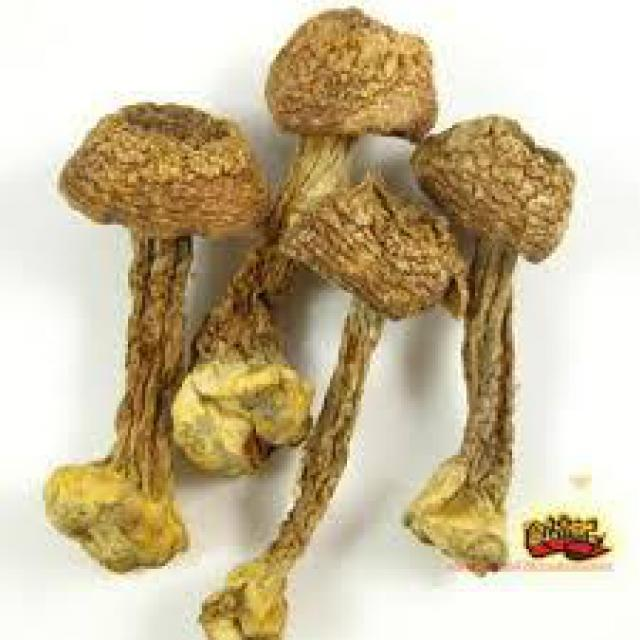Agaricus blazei Murill: (170, 6, 438, 494), (208, 182, 454, 640), (56, 103, 272, 577), (413, 117, 570, 570)
